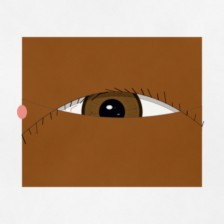pterygium_lesion: (24, 99, 56, 125)
